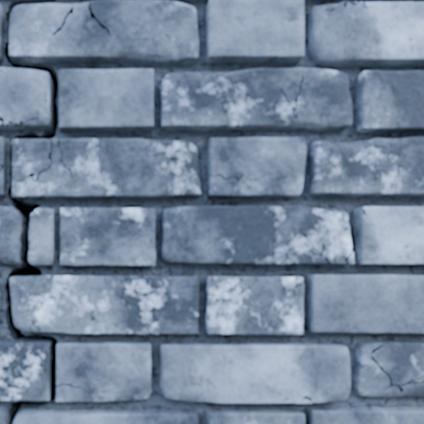brick: (10, 0, 198, 64), (159, 68, 351, 130), (160, 344, 349, 402), (12, 139, 200, 197), (160, 207, 351, 263), (11, 276, 198, 333), (308, 2, 423, 66), (307, 275, 423, 332), (309, 137, 423, 195), (206, 0, 303, 62), (207, 138, 305, 197), (59, 69, 153, 130), (205, 277, 303, 334), (56, 342, 150, 401), (60, 208, 154, 265), (349, 207, 423, 263), (356, 71, 423, 132), (354, 341, 423, 396), (0, 68, 50, 129), (0, 341, 50, 400), (14, 410, 198, 423), (307, 407, 423, 423), (207, 410, 304, 423), (0, 138, 5, 195), (0, 5, 3, 61), (0, 407, 7, 423), (0, 281, 1, 315)
broken_brick: (30, 207, 55, 265), (0, 205, 18, 264)
crack: (2, 0, 83, 423), (369, 343, 423, 392), (323, 0, 368, 11), (344, 248, 353, 264), (302, 395, 315, 403), (360, 206, 368, 216), (324, 257, 330, 264)
